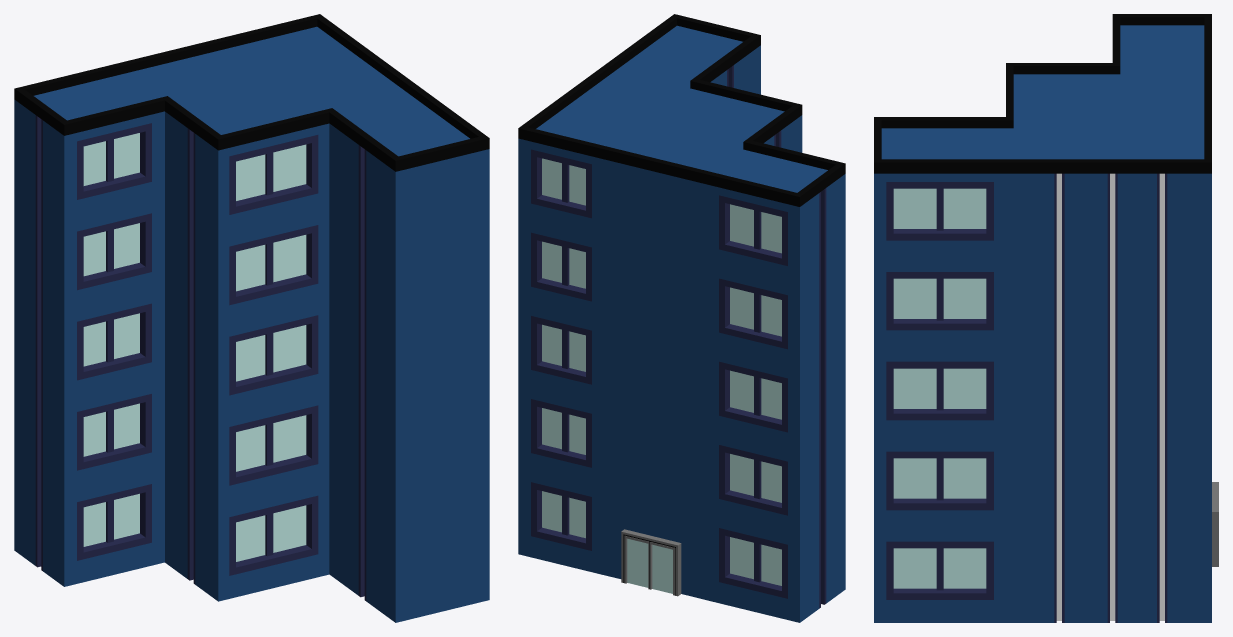
The model's file is BlockOfFlats11.fbx.
3 renders of one model, left to right at view 1: azimuth 30°, elevation 25°; view 2: azimuth 150°, elevation 25°; view 3: azimuth 270°, elevation 25°, orthographic. The views are drawn at different scales.
Visible parts, largest first — view 1: Cube.009; view 2: Cube.009; view 3: Cube.009.
Part boxes in pixels (x1=…): Cube.009: x1=14, y1=14, x2=489, y2=622; Cube.009: x1=518, y1=14, x2=845, y2=622; Cube.009: x1=874, y1=14, x2=1218, y2=622.
Size of the model in its own units: 7475 by 10802 by 7330.
